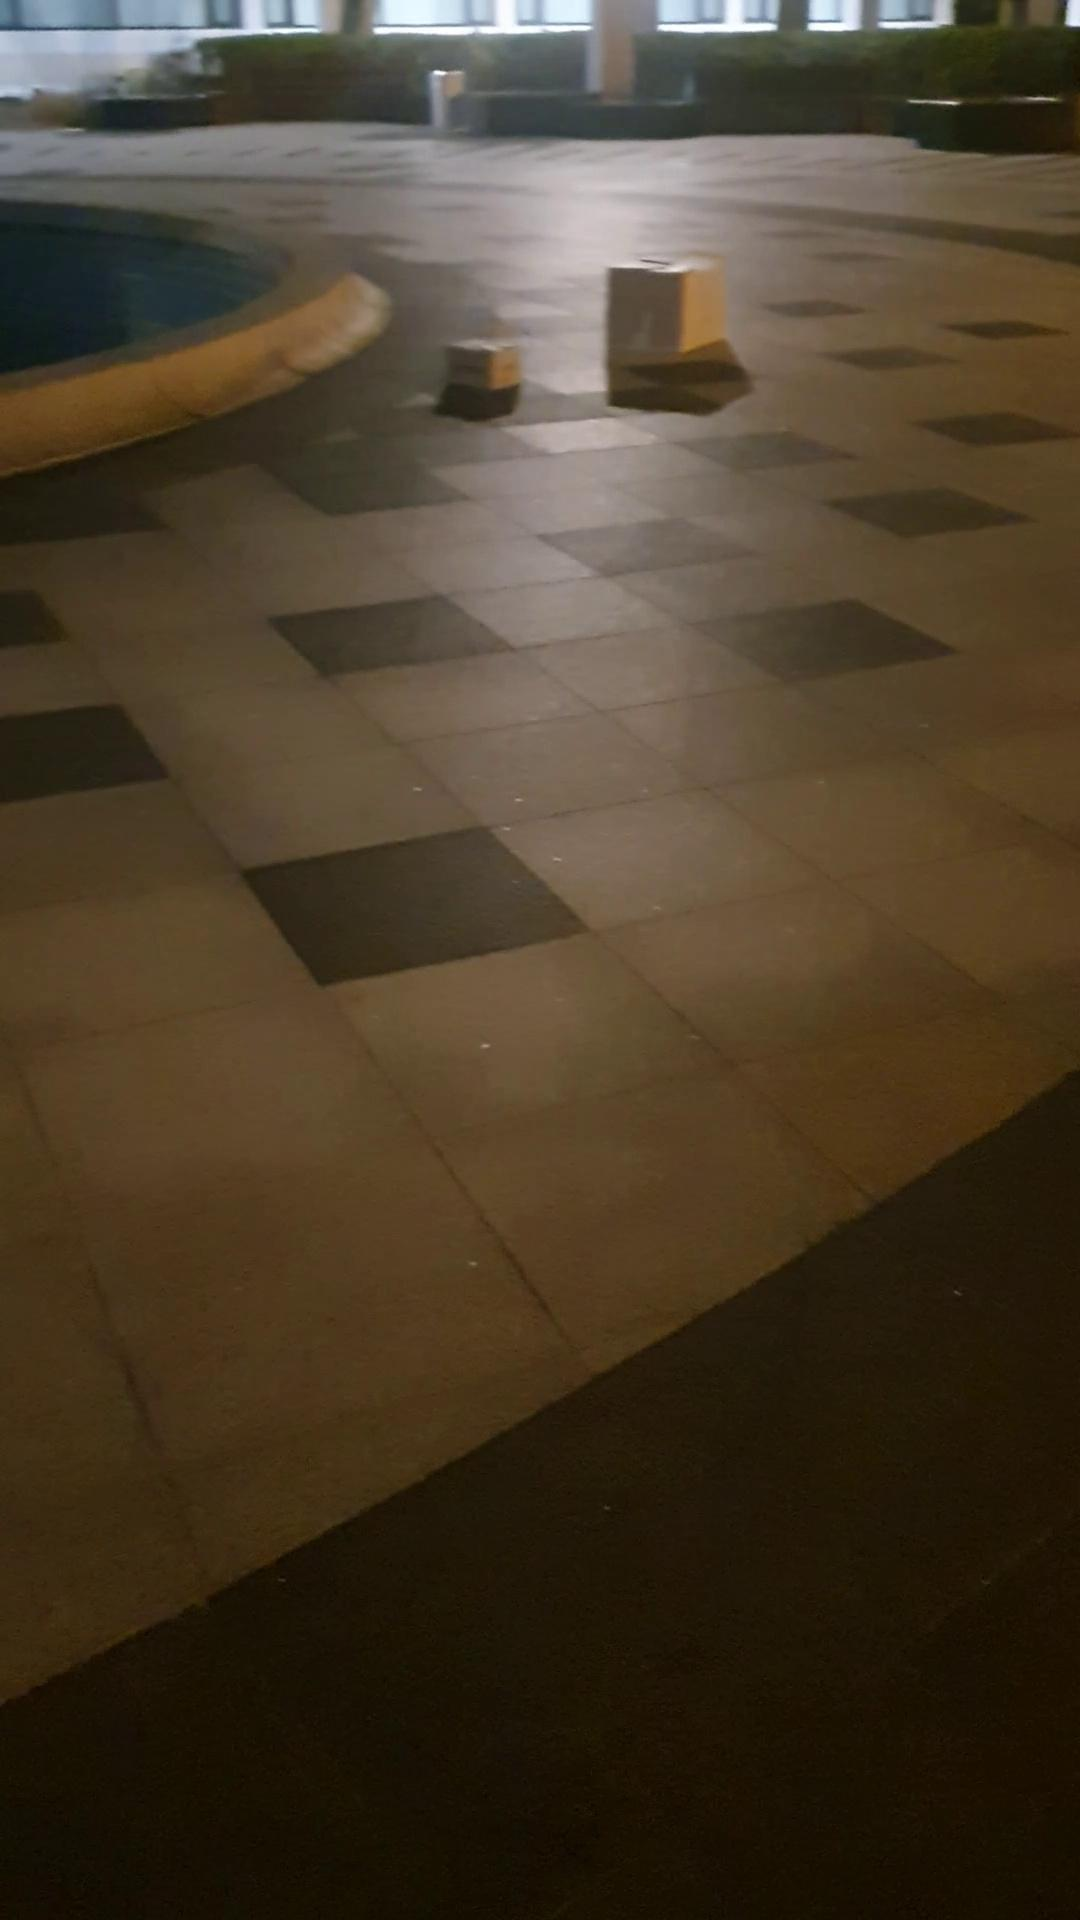Box: (601, 243, 735, 382), (438, 324, 527, 400)
